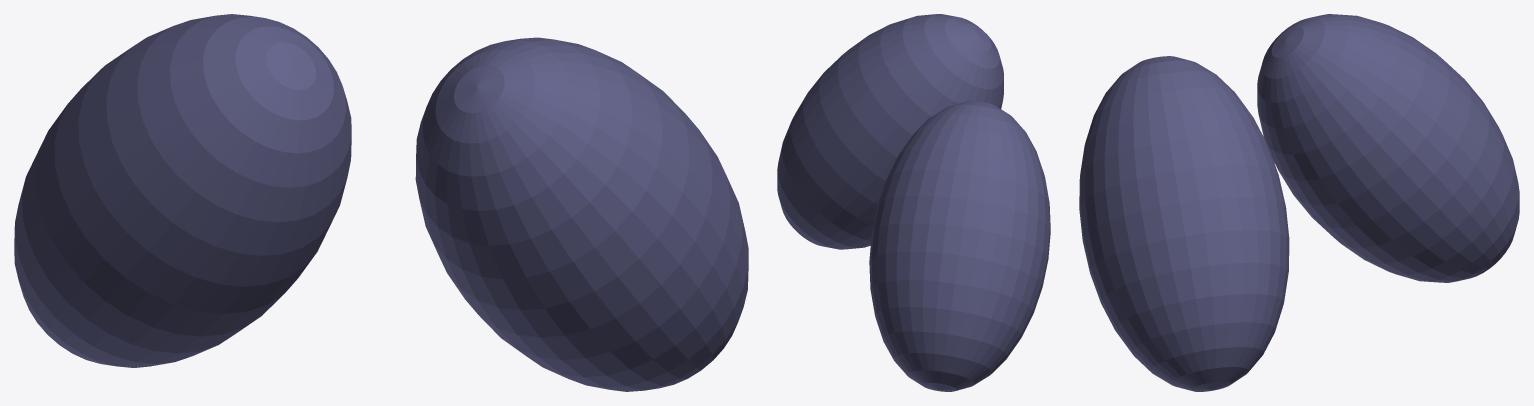
The model's file is Player02.obj.
The picture shows the model from 3 angles, left to right: view 1: azimuth 30°, elevation 25°; view 2: azimuth 150°, elevation 25°; view 3: azimuth 270°, elevation 25°; orthographic projection. The views are drawn at different scales.
Parts seen in each view (by area): view 1: 球.004, 球.005; view 2: 球.004, 球.005; view 3: 球.005, 球.004.
Boxes of the visible parts, x1,y1,x2,y2 form: 球.004: (14, 14, 351, 367); 球.005: (415, 37, 748, 391); 球.004: (869, 101, 1050, 391); 球.005: (777, 14, 1003, 249); 球.005: (1079, 56, 1289, 391); 球.004: (1257, 14, 1519, 282).
Bounding box in the file's own units: 1.3 × 0.91 × 1.28.
1 material, 1 textured.
